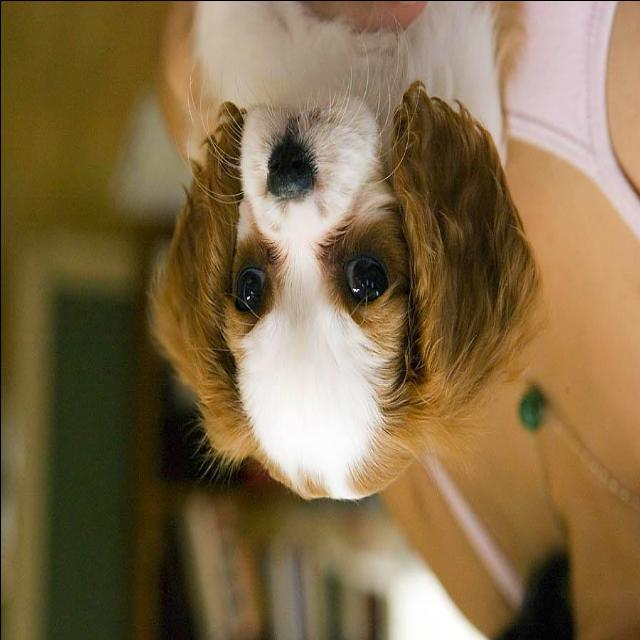blenheim_spaniel: (147, 2, 519, 506)
